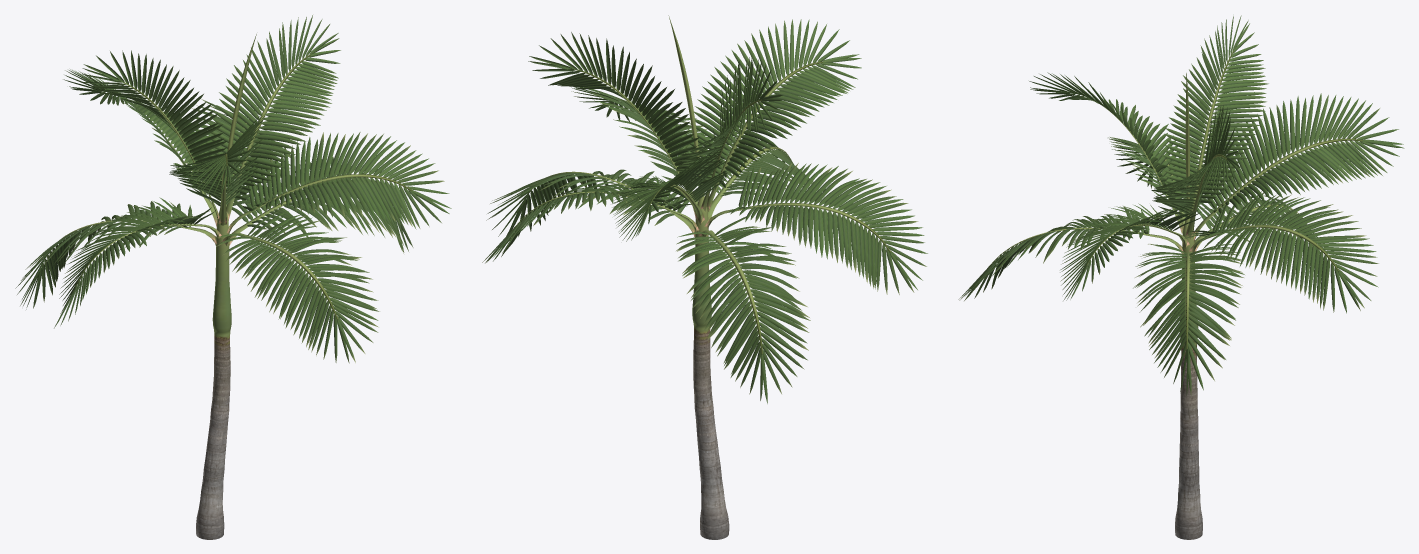
The model's file is palm.glb.
3 renders of one model, left to right at view 1: azimuth 30°, elevation 25°; view 2: azimuth 150°, elevation 25°; view 3: azimuth 270°, elevation 25°, orthographic. The views are drawn at different scales.
Parts seen in each view (by area): view 1: Archontophoenix_alexandrae_HD_Archontophoenix leaf 01_0, Archontophoenix_alexandrae_HD_Archontophoenix leaf 03_0, Archontophoenix_alexandrae_HD_Archontophoenix leaf 02_0, Archontophoenix_alexandrae_HD_Archontophoenix trunk_0, Archontophoenix_alexandrae_HD_Archontophoenix leaf stalk_0, Archontophoenix_alexandrae_HD_Archontophoenix heart_0; view 2: Archontophoenix_alexandrae_HD_Archontophoenix leaf 01_0, Archontophoenix_alexandrae_HD_Archontophoenix leaf 02_0, Archontophoenix_alexandrae_HD_Archontophoenix leaf 03_0, Archontophoenix_alexandrae_HD_Archontophoenix trunk_0, Archontophoenix_alexandrae_HD_Archontophoenix leaf stalk_0, Archontophoenix_alexandrae_HD_Archontophoenix heart_0, Archontophoenix_alexandrae_HD_Archontophoenix rolled leaf_0; view 3: Archontophoenix_alexandrae_HD_Archontophoenix leaf 01_0, Archontophoenix_alexandrae_HD_Archontophoenix leaf 02_0, Archontophoenix_alexandrae_HD_Archontophoenix leaf 03_0, Archontophoenix_alexandrae_HD_Archontophoenix trunk_0, Archontophoenix_alexandrae_HD_Archontophoenix leaf stalk_0.
Part boxes in pixels (bbox=[...]): Archontophoenix_alexandrae_HD_Archontophoenix leaf 01_0: bbox=[15, 70, 444, 363]; Archontophoenix_alexandrae_HD_Archontophoenix leaf 03_0: bbox=[82, 15, 416, 229]; Archontophoenix_alexandrae_HD_Archontophoenix leaf 02_0: bbox=[26, 69, 451, 327]; Archontophoenix_alexandrae_HD_Archontophoenix trunk_0: bbox=[196, 332, 230, 539]; Archontophoenix_alexandrae_HD_Archontophoenix leaf stalk_0: bbox=[60, 54, 412, 319]; Archontophoenix_alexandrae_HD_Archontophoenix heart_0: bbox=[212, 210, 231, 335]; Archontophoenix_alexandrae_HD_Archontophoenix leaf 01_0: bbox=[482, 89, 926, 400]; Archontophoenix_alexandrae_HD_Archontophoenix leaf 02_0: bbox=[493, 19, 927, 403]; Archontophoenix_alexandrae_HD_Archontophoenix leaf 03_0: bbox=[528, 19, 859, 240]; Archontophoenix_alexandrae_HD_Archontophoenix trunk_0: bbox=[693, 326, 729, 539]; Archontophoenix_alexandrae_HD_Archontophoenix leaf stalk_0: bbox=[514, 61, 890, 354]; Archontophoenix_alexandrae_HD_Archontophoenix heart_0: bbox=[692, 199, 711, 328]; Archontophoenix_alexandrae_HD_Archontophoenix rolled leaf_0: bbox=[668, 15, 704, 199]; Archontophoenix_alexandrae_HD_Archontophoenix leaf 01_0: bbox=[958, 105, 1382, 395]; Archontophoenix_alexandrae_HD_Archontophoenix leaf 02_0: bbox=[975, 73, 1404, 390]; Archontophoenix_alexandrae_HD_Archontophoenix leaf 03_0: bbox=[1030, 15, 1387, 285]; Archontophoenix_alexandrae_HD_Archontophoenix trunk_0: bbox=[1175, 343, 1202, 539]; Archontophoenix_alexandrae_HD_Archontophoenix leaf stalk_0: bbox=[988, 51, 1362, 348].
Bounding box in the file's own units: 3.65 × 4.5 × 3.74.
7 materials, 7 textured.
